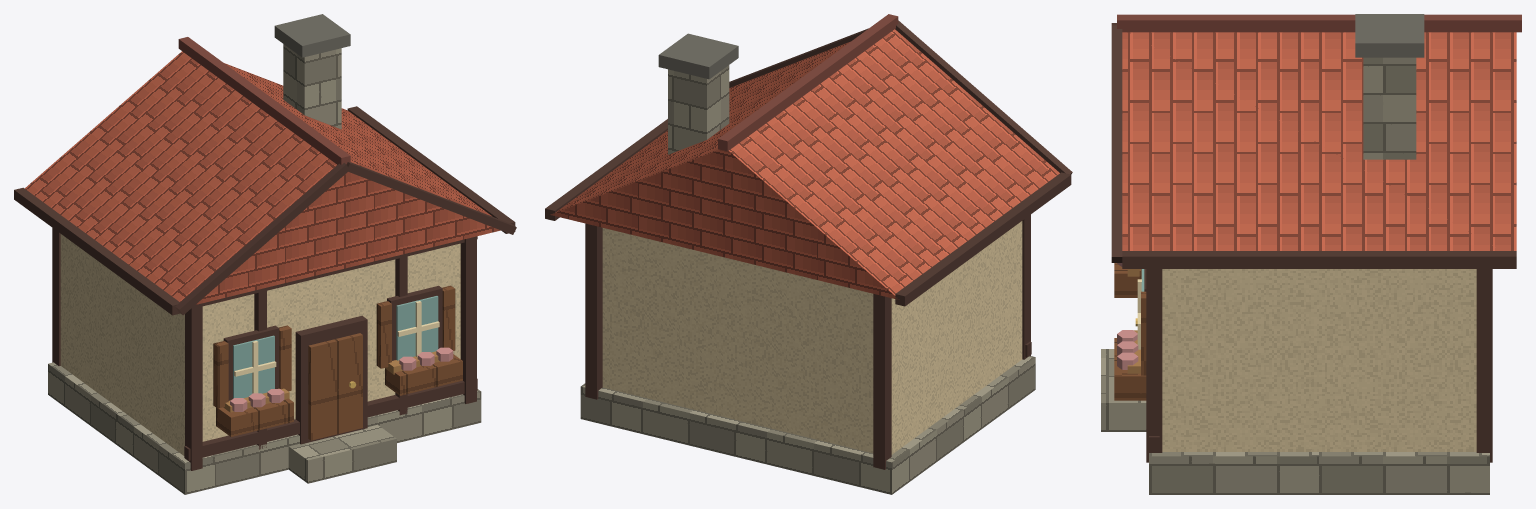
The model's file is cottage.glb.
3 views of the same model, side by side, from view 1: azimuth 30°, elevation 25°; view 2: azimuth 150°, elevation 25°; view 3: azimuth 270°, elevation 25° (orthographic). The views are drawn at different scales.
Visible parts, largest first — view 1: village_cottage; view 2: village_cottage; view 3: village_cottage.
Part boxes in pixels (bbox=[...]): village_cottage: bbox=[14, 14, 516, 494]; village_cottage: bbox=[545, 14, 1072, 494]; village_cottage: bbox=[1101, 14, 1521, 494].
Size of the model in its own units: 92.5 by 87.5 by 79.
Materials: 12 (4 with a texture image).
